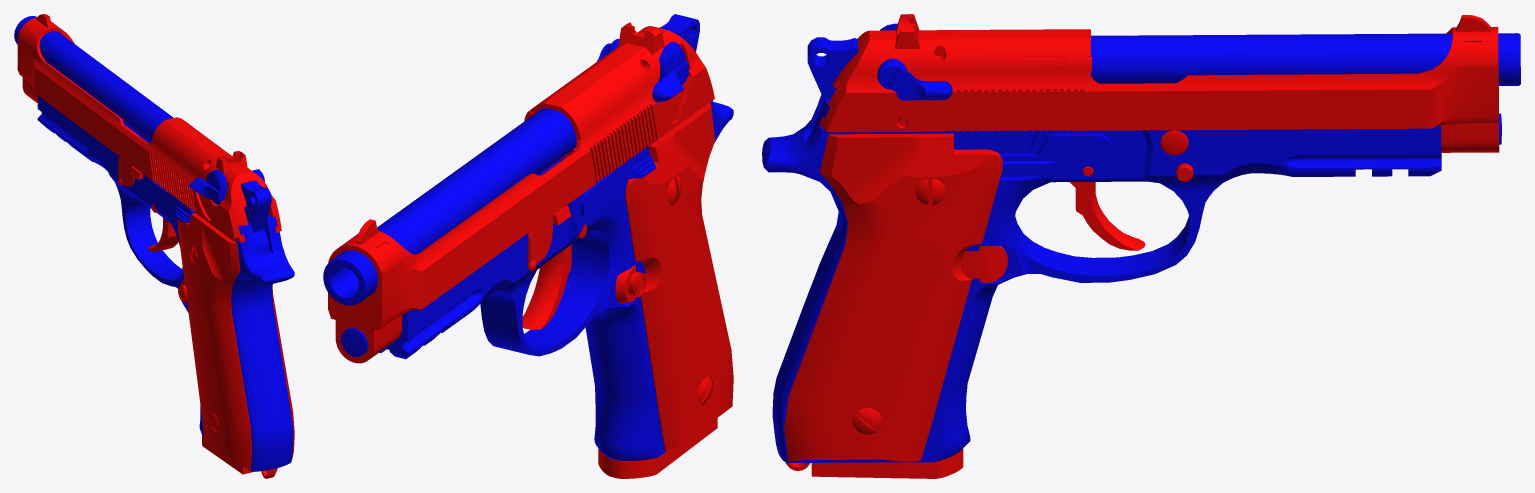
Rendered from Pistol 2.fbx.
3 views of the same model, side by side, from view 1: azimuth 30°, elevation 25°; view 2: azimuth 150°, elevation 25°; view 3: azimuth 270°, elevation 25° (orthographic). The views are drawn at different scales.
Parts seen in each view (by area): view 1: Lower_Body, Slide1, Side_Grip, Barrel, Thruster, Right_Body_Supporter, Right_Mode_Changer, Trigger, Middle_Body_Support, Rear_Sight, Magazine; view 2: Slide1, Lower_Body, Side_Grip, Barrel, Trigger, Right_Body_Supporter, Magazine, Right_Mode_Changer, Middle_Body_Support, Magazine_Remover_Button, Rear_Sight, Thruster (+2 smaller); view 3: Slide1, Side_Grip, Lower_Body, Barrel, Left_Body_Supporter, Magazine, Thruster, Left_Mode_Changer, Trigger, Left_Magazine_Button.
Part boxes in pixels (bbox=[...]): Lower_Body: bbox=[37, 96, 294, 471]; Slide1: bbox=[17, 17, 281, 242]; Side_Grip: bbox=[177, 213, 294, 469]; Barrel: bbox=[14, 16, 173, 143]; Thruster: bbox=[241, 180, 271, 254]; Right_Body_Supporter: bbox=[147, 181, 193, 222]; Right_Mode_Changer: bbox=[188, 169, 227, 204]; Trigger: bbox=[147, 218, 178, 251]; Middle_Body_Support: bbox=[118, 157, 143, 187]; Rear_Sight: bbox=[216, 151, 247, 172]; Magazine: bbox=[202, 435, 253, 474]; Slide1: bbox=[328, 26, 714, 363]; Lower_Body: bbox=[379, 100, 733, 460]; Side_Grip: bbox=[625, 102, 733, 450]; Barrel: bbox=[323, 108, 576, 305]; Trigger: bbox=[522, 244, 572, 329]; Right_Body_Supporter: bbox=[580, 148, 655, 218]; Magazine: bbox=[566, 147, 717, 478]; Right_Mode_Changer: bbox=[652, 41, 688, 102]; Middle_Body_Support: bbox=[527, 206, 571, 268]; Magazine_Remover_Button: bbox=[615, 265, 646, 303]; Rear_Sight: bbox=[618, 22, 664, 54]; Thruster: bbox=[659, 14, 699, 51]; Slide1: bbox=[819, 27, 1499, 152]; Side_Grip: bbox=[784, 133, 1002, 461]; Lower_Body: bbox=[762, 95, 1441, 462]; Barrel: bbox=[1091, 33, 1520, 85]; Left_Body_Supporter: bbox=[999, 133, 1112, 176]; Magazine: bbox=[811, 448, 963, 478]; Thruster: bbox=[807, 37, 858, 122]; Left_Mode_Changer: bbox=[877, 58, 952, 100]; Trigger: bbox=[1069, 182, 1145, 250]; Left_Magazine_Button: bbox=[960, 246, 1007, 282].
Bounding box in the file's own units: 3.21 × 14.2 × 21.59.
